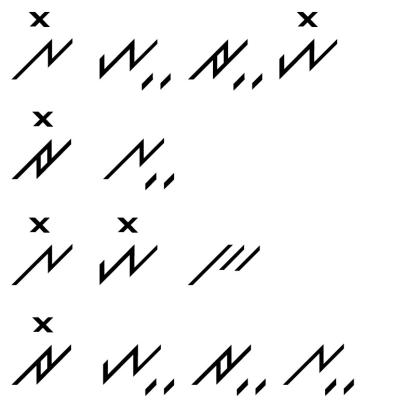lah: (96, 128, 181, 193), (279, 334, 359, 400)
lo: (3, 210, 76, 288), (8, 5, 78, 84)
rah: (183, 28, 266, 96), (187, 332, 268, 398)
ro: (11, 314, 78, 390), (12, 106, 75, 186)
yah: (90, 15, 174, 98), (94, 336, 180, 400)
yo: (89, 212, 163, 290), (275, 9, 343, 81)
